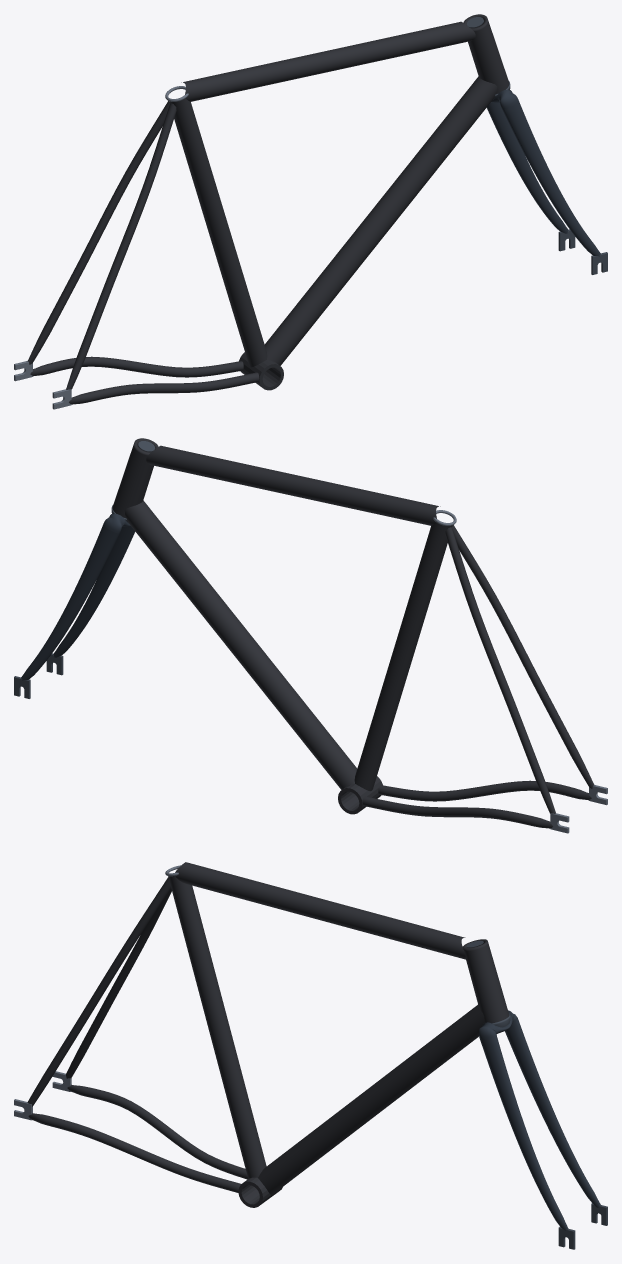
The model's file is state-black-label-v3-55.glb.
3 views of the same model, one above another, from view 1: azimuth 30°, elevation 25°; view 2: azimuth 150°, elevation 25°; view 3: azimuth 330°, elevation 25° (orthographic).
Parts seen in each view (by area): view 1: paint_down, paint_top, paint_seat, paint_seatstay_1, paint_seatstay_-1, fork_blade_1, paint_chainstay_-1, paint_chainstay_1, fork_blade_-1, paint_head, paint_bottom_bracket; view 2: paint_down, paint_top, paint_seat, paint_seatstay_-1, paint_seatstay_1, fork_blade_-1, paint_chainstay_1, paint_chainstay_-1, fork_blade_1, paint_head, paint_bottom_bracket; view 3: paint_down, paint_seat, paint_top, fork_blade_1, fork_blade_-1, paint_seatstay_1, paint_chainstay_1, paint_head, paint_chainstay_-1, paint_seatstay_-1, paint_bottom_bracket.
Boxes of the visible parts, left/top/right/bottom form: paint_down: left=264, top=76, right=497, bottom=365; paint_top: left=181, top=21, right=475, bottom=101; paint_seat: left=169, top=98, right=267, bottom=367; paint_seatstay_1: left=66, top=103, right=176, bottom=389; paint_seatstay_-1: left=27, top=101, right=169, bottom=364; fork_blade_1: left=502, top=100, right=600, bottom=256; paint_chainstay_-1: left=30, top=356, right=243, bottom=377; paint_chainstay_1: left=69, top=372, right=259, bottom=404; fork_blade_-1: left=486, top=102, right=568, bottom=233; paint_head: left=463, top=14, right=509, bottom=94; paint_bottom_bracket: left=239, top=352, right=283, bottom=390; paint_down: left=124, top=500, right=357, bottom=789; paint_top: left=146, top=445, right=440, bottom=525; paint_seat: left=354, top=522, right=452, bottom=791; paint_seatstay_-1: left=445, top=527, right=555, bottom=813; paint_seatstay_1: left=452, top=525, right=594, bottom=788; fork_blade_-1: left=21, top=524, right=119, bottom=680; paint_chainstay_1: left=378, top=780, right=591, bottom=801; paint_chainstay_-1: left=362, top=796, right=552, bottom=828; fork_blade_1: left=53, top=526, right=135, bottom=657; paint_head: left=112, top=438, right=158, bottom=518; paint_bottom_bracket: left=338, top=776, right=382, bottom=814; paint_down: left=258, top=1004, right=484, bottom=1194; paint_seat: left=168, top=876, right=266, bottom=1178; paint_top: left=175, top=862, right=465, bottom=959; fork_blade_1: left=480, top=1036, right=568, bottom=1230; fork_blade_-1: left=505, top=1020, right=600, bottom=1207; paint_seatstay_1: left=27, top=877, right=170, bottom=1106; paint_chainstay_1: left=28, top=1113, right=240, bottom=1192; paint_head: left=463, top=939, right=509, bottom=1023; paint_chainstay_-1: left=67, top=1084, right=248, bottom=1179; paint_seatstay_-1: left=66, top=888, right=171, bottom=1078; paint_bottom_bracket: left=238, top=1177, right=282, bottom=1207.
Bounding box in the file's own units: 1.04 × 0.567 × 0.1442.
